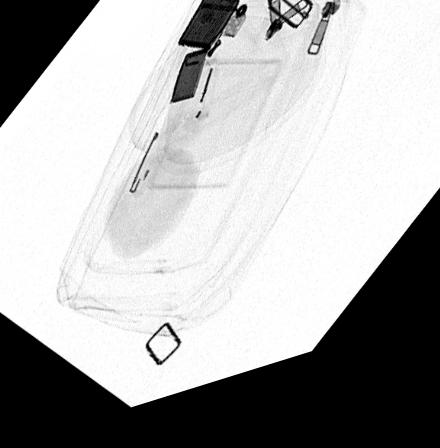Lighter: (169, 6, 246, 114)
